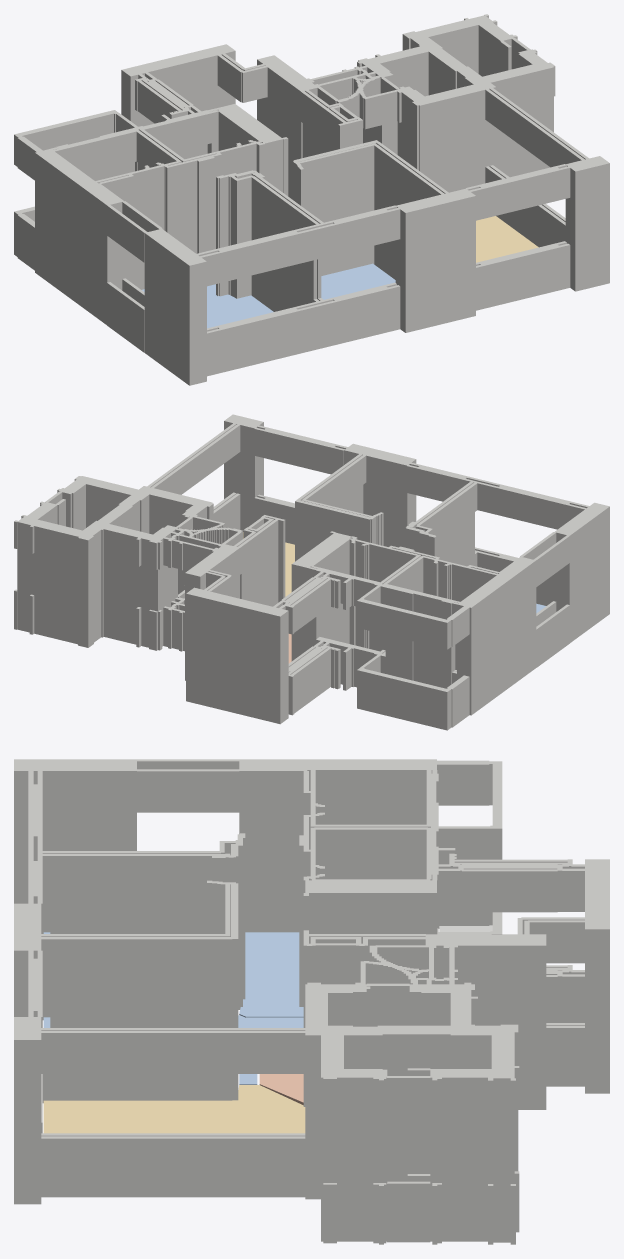
The picture shows the model from 3 angles, top to bottom: view 1: azimuth 30°, elevation 25°; view 2: azimuth 150°, elevation 25°; view 3: azimuth 270°, elevation 25°; orthographic projection. The views are drawn at different scales.
Visible parts, largest first — view 1: walls, room:living:8, room:bedroom:5, room:bedroom:4; view 2: walls; view 3: walls, room:living:8, room:bedroom:4, room:bedroom:5, room:kitchen:0.
Boxes of the visible parts, left/top/right/bottom form: walls: left=14, top=14, right=609, bottom=385; room:living:8: left=476, top=216, right=538, bottom=262; room:bedroom:5: left=321, top=263, right=395, bottom=299; room:bedroom:4: left=142, top=284, right=273, bottom=328; walls: left=14, top=414, right=609, bottom=730; walls: left=14, top=759, right=609, bottom=1244; room:living:8: left=43, top=1085, right=305, bottom=1133; room:bedroom:4: left=43, top=932, right=303, bottom=1017; room:bedroom:5: left=43, top=1015, right=303, bottom=1084; room:kitchen:0: left=259, top=1074, right=303, bottom=1105.
Bounding box in the file's own units: 11.75 × 2.8 × 9.21.
